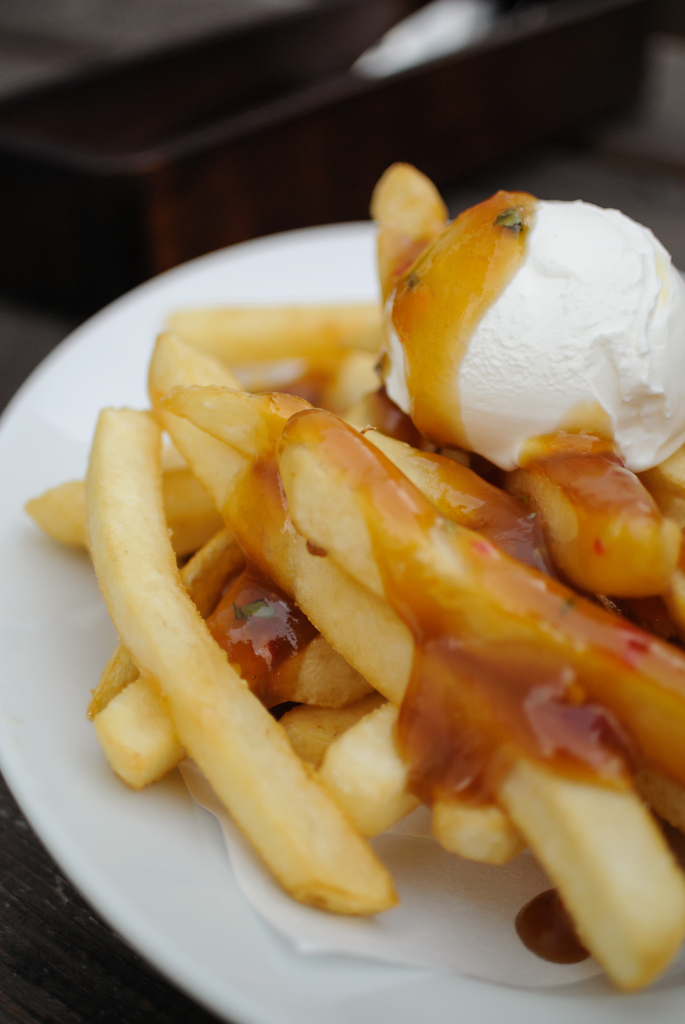French fries: (71, 310, 628, 951)
